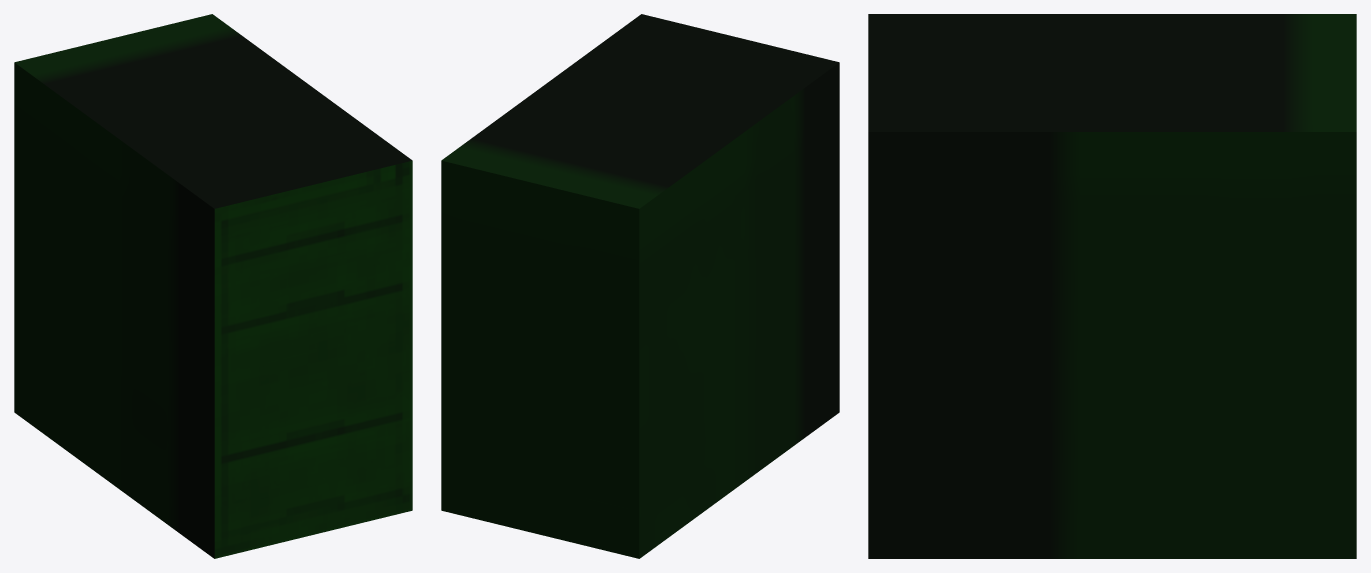
The model's file is SM_Drawer02.glb.
3 views of the same model, side by side, from view 1: azimuth 30°, elevation 25°; view 2: azimuth 150°, elevation 25°; view 3: azimuth 270°, elevation 25° (orthographic). The views are drawn at different scales.
Parts seen in each view (by area): view 1: SM_Drawer02; view 2: SM_Drawer02; view 3: SM_Drawer02.
Part boxes in pixels (left/top/right/bottom): SM_Drawer02: left=14, top=14, right=412, bottom=558; SM_Drawer02: left=441, top=14, right=839, bottom=558; SM_Drawer02: left=868, top=14, right=1356, bottom=558.
Size of the model in its own units: 0.4128 by 0.6967 by 0.7225.
1 material, 1 textured.
